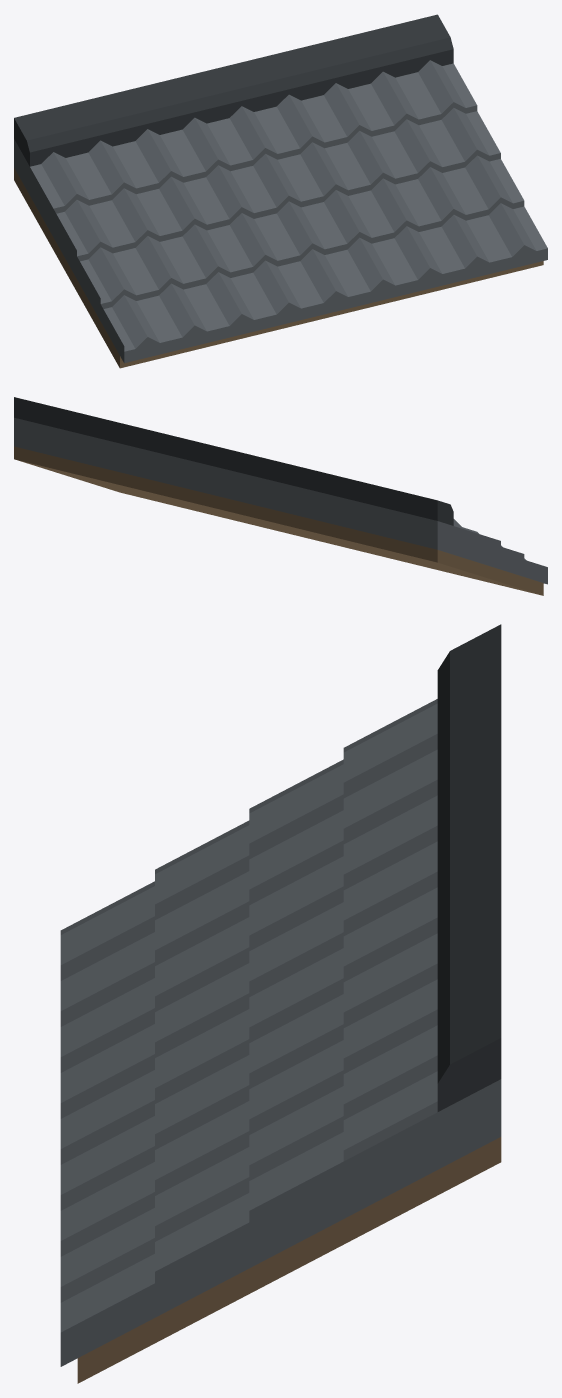
Rendered from tiled-roof-section-6f1121.glb.
3 views of the same model, one above another, from view 1: azimuth 30°, elevation 25°; view 2: azimuth 150°, elevation 25°; view 3: azimuth 270°, elevation 25° (orthographic). The views are drawn at different scales.
Parts seen in each view (by area): view 1: roof-section-body; view 2: roof-section-body; view 3: roof-section-body.
Boxes of the visible parts, <box> form: roof-section-body: <box>14,14,547,368</box>; roof-section-body: <box>14,397,547,595</box>; roof-section-body: <box>60,624,501,1383</box>.
Bounding box in the file's own units: 4 × 1.56 × 1.8.
